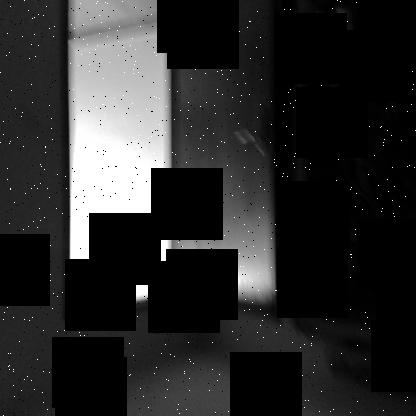Porte: (56, 1, 287, 325)
